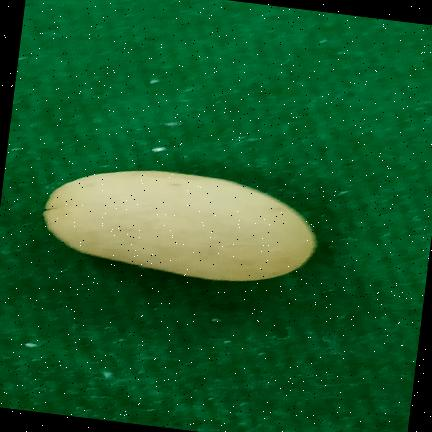parchment: (43, 170, 316, 281)
